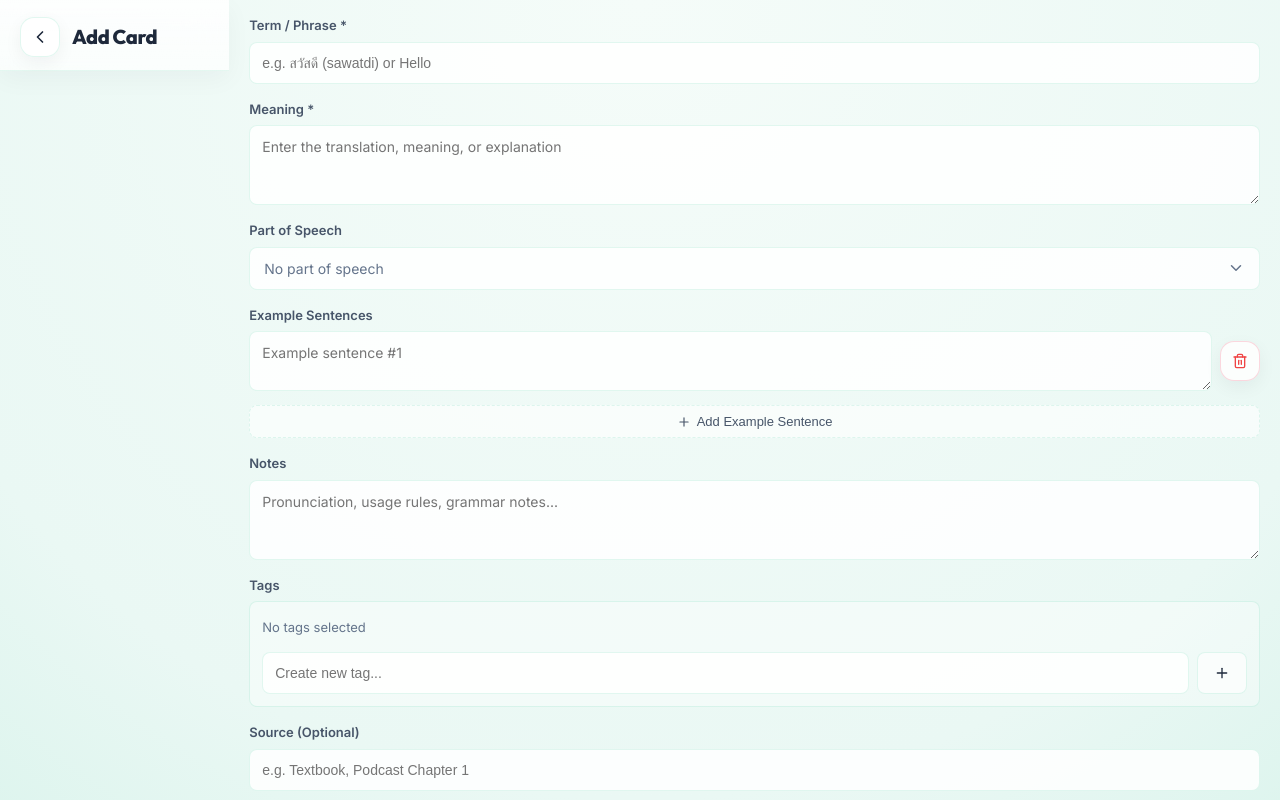
Test: CardForm AI generation › still requires meaning before saving
In the field with placeholder "e.g. สวัสดี (sawatdi) or Hello": (755, 62) [249,42,1260,84], type "hello"
(page scrolled)
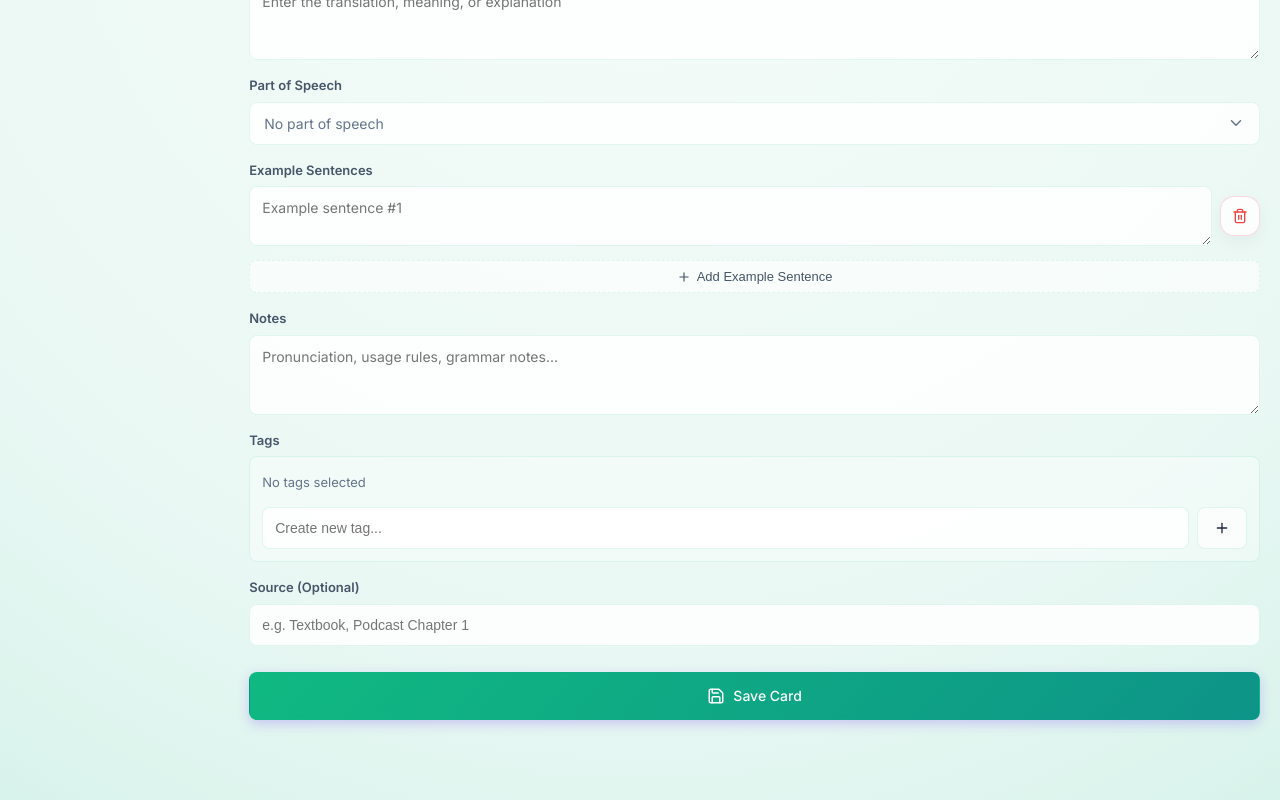
Click the button "Save Card": (755, 696) [249,672,1260,720]
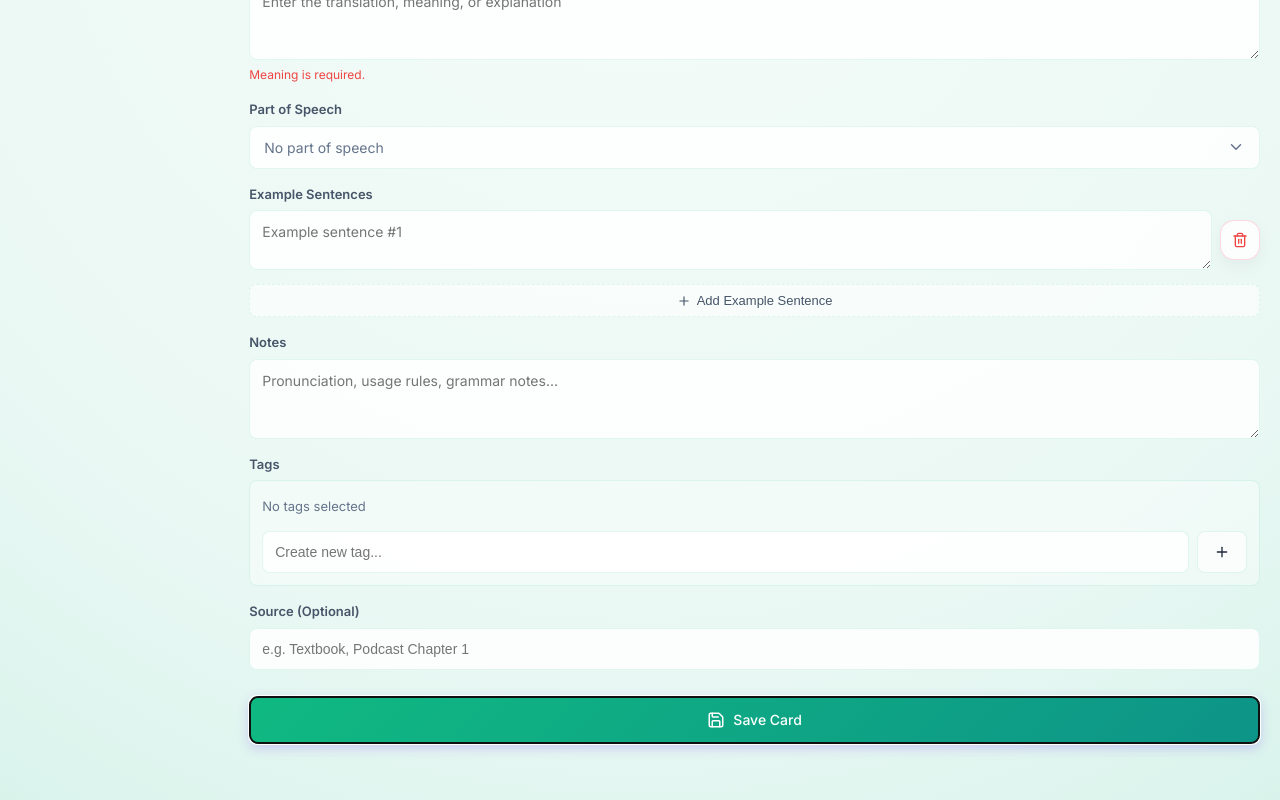
Expected: the text "Meaning is required." is shown, [249,67,365,82]
